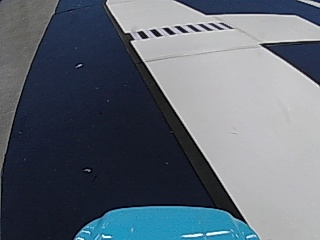CrossWalk: (130, 21, 229, 39)
